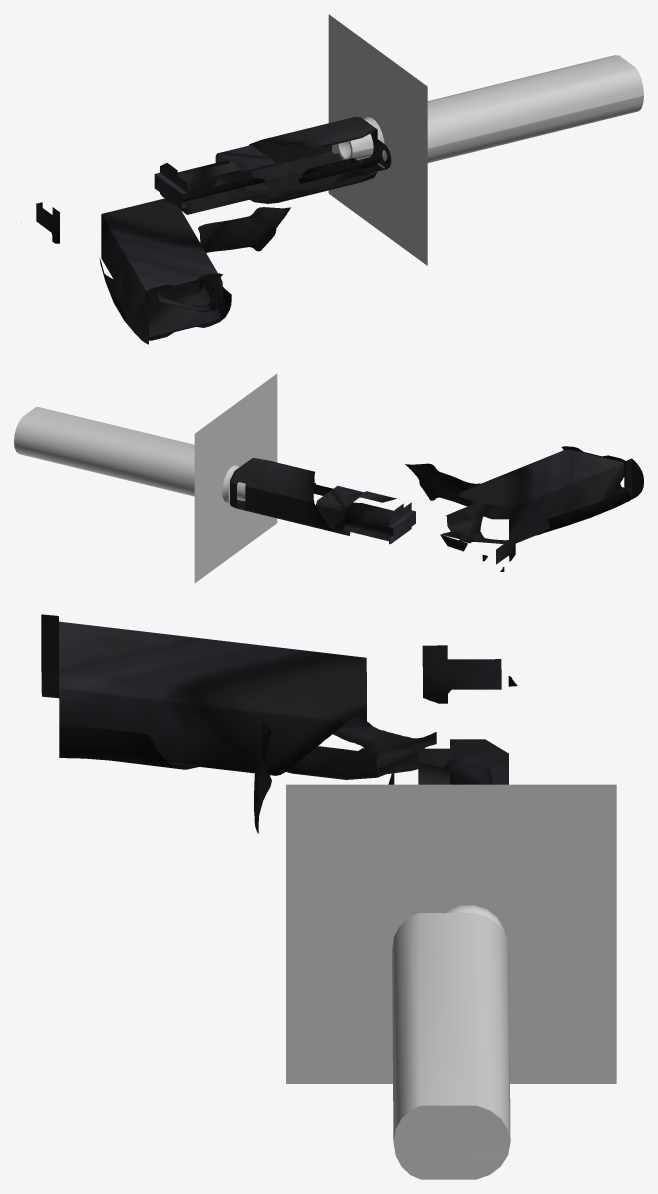
Rendered from usp.obj.
The picture shows the model from 3 angles, top to bottom: view 1: azimuth 30°, elevation 25°; view 2: azimuth 150°, elevation 25°; view 3: azimuth 270°, elevation 25°; orthographic projection. The views are drawn at different scales.
Parts seen in each view (by area): view 1: gunModel, flashModel, silencer_OGFObject0, slideModel, ammoModel; view 2: gunModel, flashModel, silencer_OGFObject0, slideModel, ammoModel; view 3: flashModel, gunModel, silencer_OGFObject0, slideModel, ammoModel.
Boxes of the visible parts, x1=… form: gunModel: x1=99, y1=150, x2=389, y2=344; flashModel: x1=328, y1=14, x2=427, y2=265; silencer_OGFObject0: x1=337, y1=55, x2=643, y2=162; slideModel: x1=36, y1=116, x2=391, y2=243; ammoModel: x1=157, y1=280, x2=217, y2=311; gunModel: x1=313, y1=446, x2=643, y2=551; flashModel: x1=194, y1=373, x2=277, y2=583; silencer_OGFObject0: x1=14, y1=407, x2=245, y2=503; slideModel: x1=230, y1=458, x2=515, y2=571; ammoModel: x1=442, y1=502, x2=508, y2=543; flashModel: x1=286, y1=784, x2=616, y2=1083; gunModel: x1=41, y1=614, x2=492, y2=833; silencer_OGFObject0: x1=392, y1=905, x2=510, y2=1179; slideModel: x1=418, y1=645, x2=517, y2=784; ammoModel: x1=286, y1=716, x2=436, y2=779.
Bounding box in the file's own units: 13.1 × 3.65 × 6.36.
